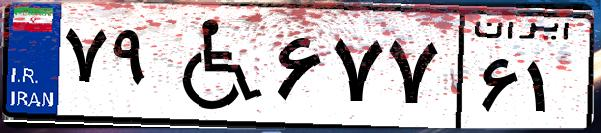1: (525, 38, 570, 115)
6: (270, 28, 330, 110), (475, 38, 525, 113)
7: (385, 28, 445, 110), (330, 28, 385, 110), (57, 26, 110, 100)
9: (110, 28, 158, 98)
ژ (معلولین و جانبازان): (158, 12, 270, 120)
